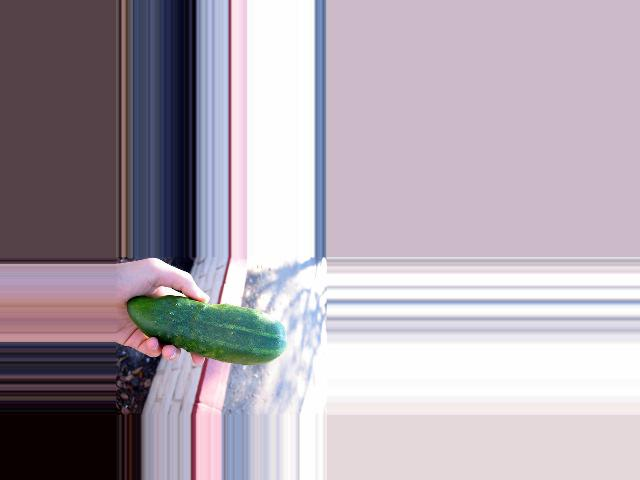cucumber: (127, 296, 286, 366)
